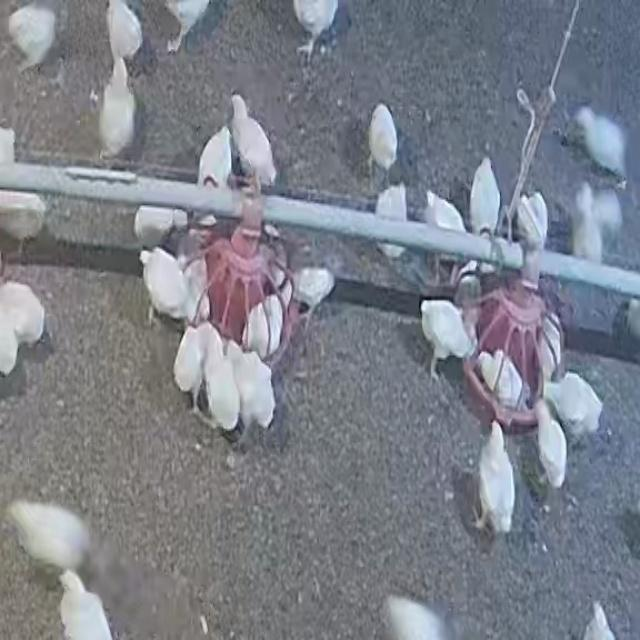chicken: (473, 419, 519, 525), (12, 503, 88, 565), (232, 94, 280, 185), (574, 111, 630, 188), (420, 294, 476, 367), (140, 250, 198, 319), (56, 567, 109, 640), (201, 339, 243, 424), (528, 396, 570, 478), (542, 373, 600, 428), (170, 320, 214, 391), (226, 347, 268, 419), (135, 201, 198, 249), (475, 350, 525, 410), (106, 61, 138, 154), (471, 150, 504, 240), (104, 0, 148, 66), (9, 9, 56, 69), (248, 293, 297, 345), (194, 126, 234, 188), (372, 182, 406, 252), (289, 266, 339, 311), (417, 191, 462, 238), (364, 101, 397, 161), (541, 304, 564, 386)
